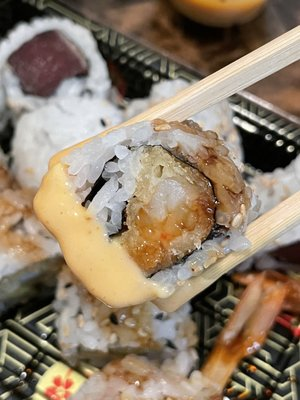burger: (150, 189, 300, 315)
